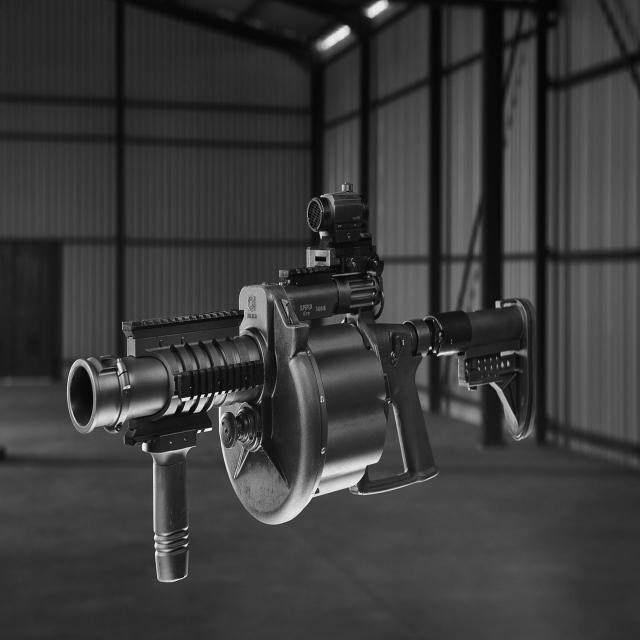Lancher: (56, 174, 560, 544)
